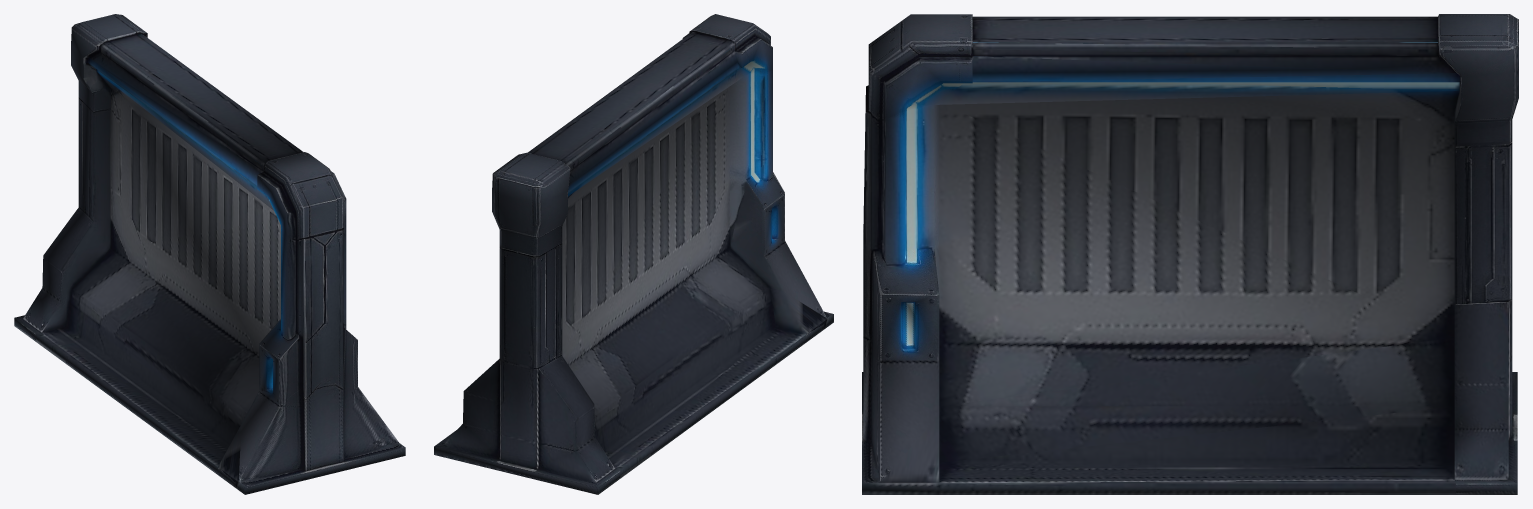
File: wall.glb
3 views of the same model, side by side, from view 1: azimuth 30°, elevation 25°; view 2: azimuth 150°, elevation 25°; view 3: azimuth 270°, elevation 25° (orthographic). The views are drawn at different scales.
Parts seen in each view (by area): view 1: tripo_node_1b8e7e6f-a60a-4c3d-81e0-3651f1eb8ae2; view 2: tripo_node_1b8e7e6f-a60a-4c3d-81e0-3651f1eb8ae2; view 3: tripo_node_1b8e7e6f-a60a-4c3d-81e0-3651f1eb8ae2.
Boxes of the visible parts, x1,y1,x2,y2 form: tripo_node_1b8e7e6f-a60a-4c3d-81e0-3651f1eb8ae2: (14,14,405,494); tripo_node_1b8e7e6f-a60a-4c3d-81e0-3651f1eb8ae2: (434,14,833,494); tripo_node_1b8e7e6f-a60a-4c3d-81e0-3651f1eb8ae2: (862,14,1518,494).
Bounding box in the file's own units: 0.4004 × 0.6934 × 0.998.
1 material, 1 textured.
